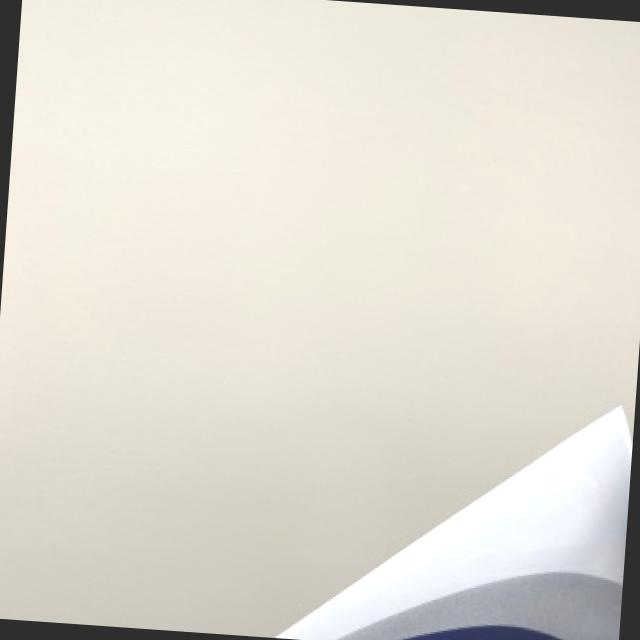healthy: (281, 405, 630, 640)
